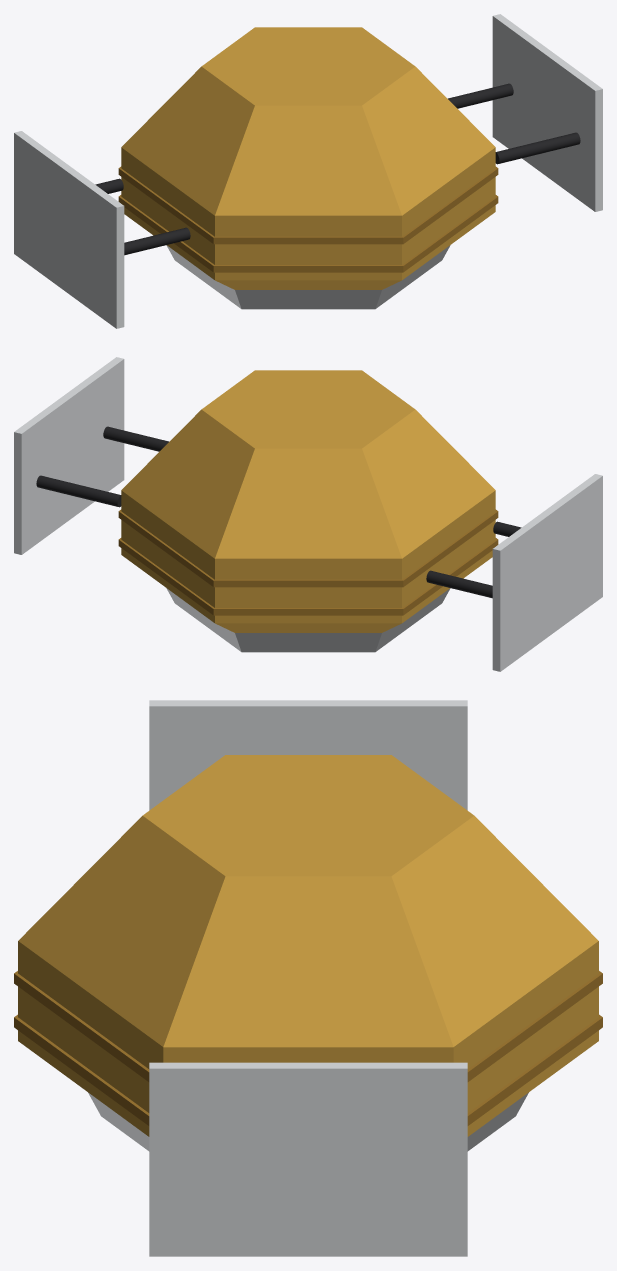
File: r1_transceiver.obj
The picture shows the model from 3 angles, top to bottom: view 1: azimuth 30°, elevation 25°; view 2: azimuth 150°, elevation 25°; view 3: azimuth 270°, elevation 25°; orthographic projection. The views are drawn at different scales.
Visible parts, largest first — view 1: r1_transceiver; view 2: r1_transceiver; view 3: r1_transceiver.
Part boxes in pixels (left/top/right/bottom): r1_transceiver: left=14, top=14, right=602, bottom=328; r1_transceiver: left=14, top=357, right=602, bottom=671; r1_transceiver: left=14, top=700, right=602, bottom=1256.
Bounding box in the file's own units: 1.26 × 0.48 × 0.852.
